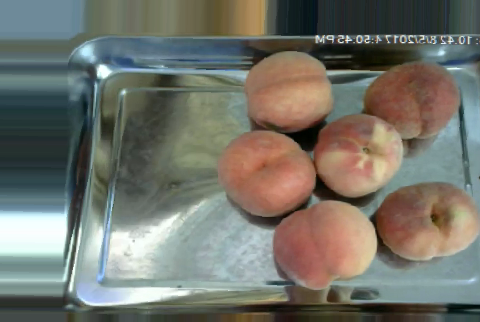Peach: (273, 199, 377, 289), (217, 129, 315, 219), (360, 58, 461, 143), (375, 179, 479, 258), (316, 111, 405, 198), (243, 50, 333, 131)
